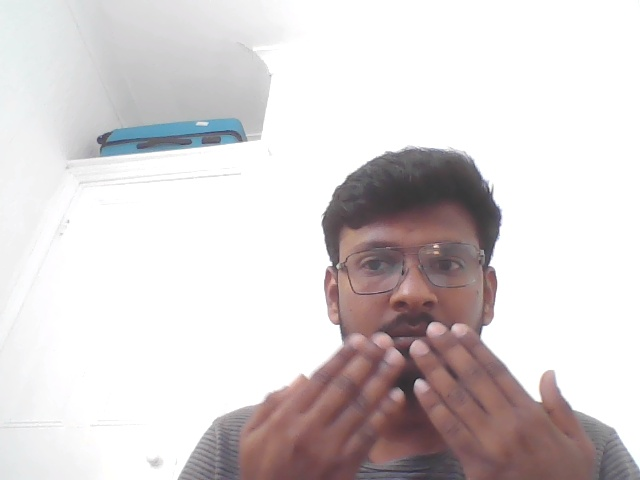Thank You: (221, 313, 608, 480)
